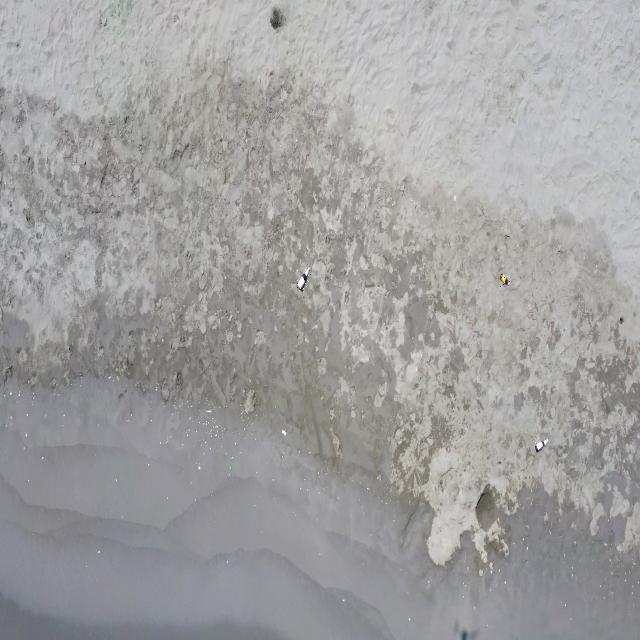glass: (298, 266, 312, 290), (534, 438, 549, 453), (500, 273, 510, 287)
